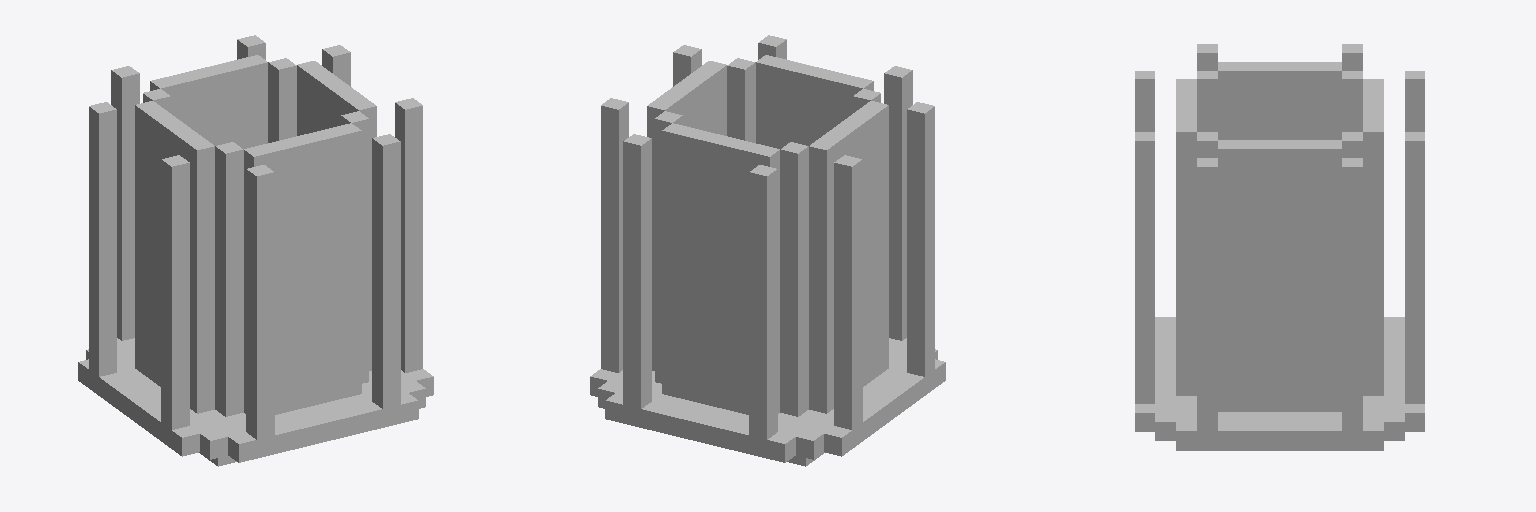
Rendered from reactorCellBottom.obj.
3 views of the same model, side by side, from view 1: azimuth 30°, elevation 25°; view 2: azimuth 150°, elevation 25°; view 3: azimuth 270°, elevation 25° (orthographic).
Parts seen in each view (by area): view 1: MiddlePBack, MiddlePRight, OPBackLeft, OPBackRight, OPRightBack, MiddleBackRight, OPLeftFront1, MiddlePFront, BaseDepth, OPLeftBack, OPFrontRight, MiddlePLeft (+6 smaller); view 2: MiddlePFront, MiddlePRight, OPFrontRight, OPFrontLeft, OPLeftFront1, MiddleFrontRight, OPRightBack, MiddlePBack, BaseDepth, OPLeftFront, OPBackRight, MiddlePLeft (+6 smaller); view 3: MiddlePLeft, MiddlePRight, MiddlePFront, MiddlePBack, OPLeftBack, OPLeftFront, OPBackLeft, OPFrontLeft, BaseWidth, Base.001, BaseDepth, MiddleBackRight (+7 smaller).
Part boxes in pixels (bbox=[...]): MiddlePBack: bbox=[244, 123, 361, 414]; MiddlePRight: bbox=[135, 101, 214, 413]; OPBackLeft: bbox=[372, 134, 400, 408]; OPBackRight: bbox=[246, 165, 274, 439]; OPRightBack: bbox=[161, 155, 189, 429]; MiddleBackRight: bbox=[215, 142, 243, 416]; OPLeftFront1: bbox=[89, 102, 116, 376]; MiddlePFront: bbox=[150, 55, 267, 148]; BaseDepth: bbox=[117, 338, 418, 462]; OPLeftBack: bbox=[395, 98, 422, 372]; OPFrontRight: bbox=[111, 66, 139, 340]; MiddlePLeft: bbox=[297, 61, 376, 370]; MiddlePFront: bbox=[662, 123, 779, 414]; MiddlePRight: bbox=[809, 101, 888, 413]; OPFrontRight: bbox=[749, 165, 777, 439]; OPFrontLeft: bbox=[623, 134, 651, 408]; OPLeftFront1: bbox=[834, 155, 862, 429]; MiddleFrontRight: bbox=[780, 142, 808, 416]; OPRightBack: bbox=[907, 102, 934, 376]; MiddlePBack: bbox=[756, 55, 873, 148]; BaseDepth: bbox=[605, 338, 906, 462]; OPLeftFront: bbox=[601, 98, 628, 372]; OPBackRight: bbox=[884, 66, 912, 340]; MiddlePLeft: bbox=[647, 61, 726, 370]; MiddlePLeft: bbox=[1218, 140, 1341, 411]; MiddlePRight: bbox=[1218, 62, 1341, 139]; MiddlePFront: bbox=[1363, 79, 1383, 395]; MiddlePBack: bbox=[1176, 79, 1196, 395]; OPLeftBack: bbox=[1197, 158, 1217, 430]; OPLeftFront: bbox=[1342, 158, 1362, 430]; OPBackLeft: bbox=[1135, 132, 1154, 403]; OPFrontLeft: bbox=[1405, 132, 1424, 403]; BaseWidth: bbox=[1176, 414, 1383, 448]; Base.001: bbox=[1155, 317, 1404, 440]; BaseDepth: bbox=[1135, 336, 1424, 431]; MiddleBackRight: bbox=[1197, 71, 1217, 131].
Size of the model in its own units: 0.875 by 1 by 0.875.